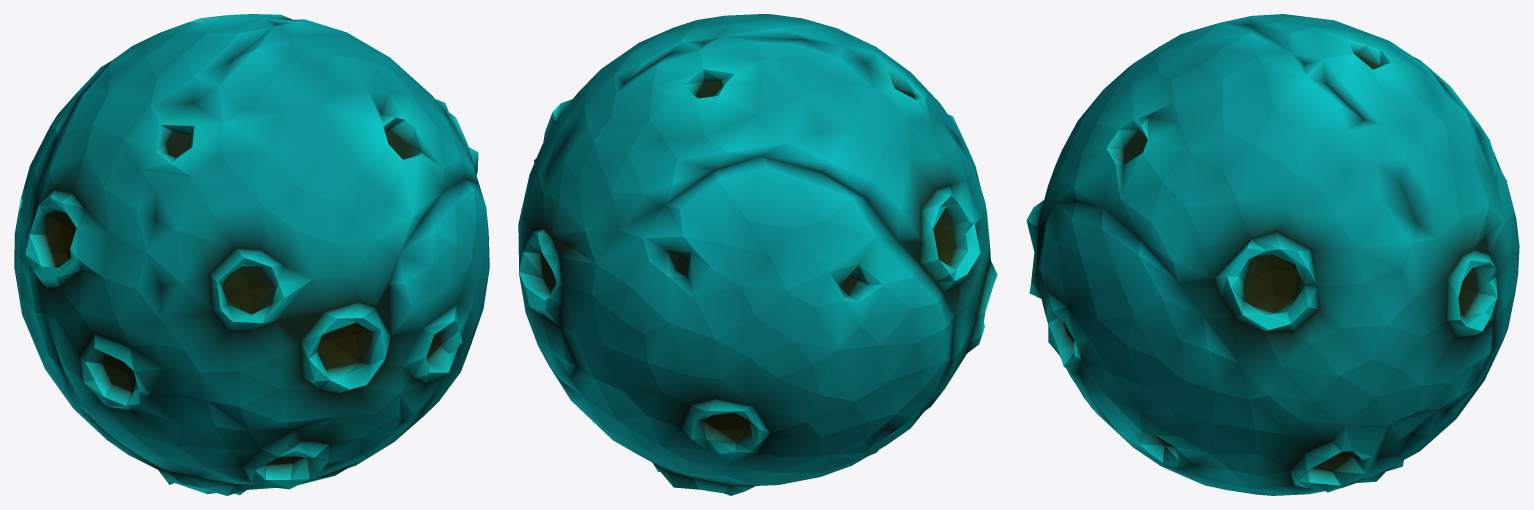
File: moon15.fbx
3 renders of one model, left to right at view 1: azimuth 30°, elevation 25°; view 2: azimuth 150°, elevation 25°; view 3: azimuth 270°, elevation 25°, orthographic.
Parts seen in each view (by area): view 1: attribblur1; view 2: attribblur1; view 3: attribblur1.
Boxes of the visible parts, box(x1,y1,x2,y2) form: attribblur1: box(14, 14, 489, 495); attribblur1: box(518, 14, 997, 495); attribblur1: box(1026, 14, 1519, 495).
Size of the model in its own units: 1.03 by 1.01 by 1.02.
